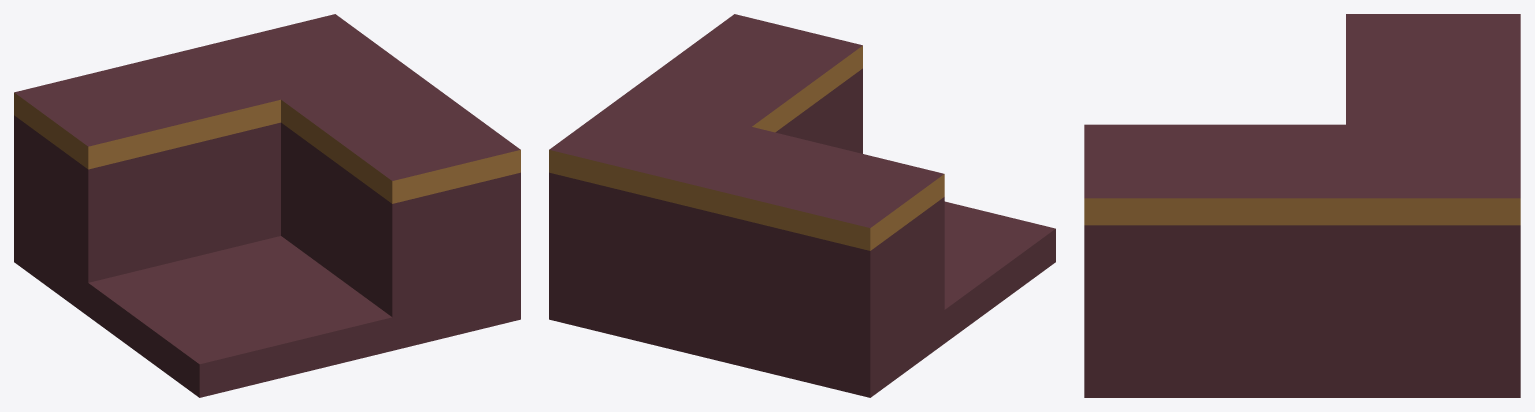
File: SM_Pool_Part_Corner_1x1m_Empire.fbx
The picture shows the model from 3 angles, left to right: view 1: azimuth 30°, elevation 25°; view 2: azimuth 150°, elevation 25°; view 3: azimuth 270°, elevation 25°; orthographic projection. The views are drawn at different scales.
Visible parts, largest first — view 1: SM_Pool_Part_Corner_1x1m_Empire; view 2: SM_Pool_Part_Corner_1x1m_Empire; view 3: SM_Pool_Part_Corner_1x1m_Empire.
Part boxes in pixels (x1,y1,x2,y2): SM_Pool_Part_Corner_1x1m_Empire: (14,14,520,397); SM_Pool_Part_Corner_1x1m_Empire: (549,14,1055,397); SM_Pool_Part_Corner_1x1m_Empire: (1084,14,1520,397).
Size of the model in its own units: 1 by 0.5051 by 1.
